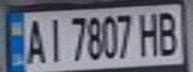0: (100, 11, 118, 61)
7: (66, 12, 87, 63), (115, 11, 136, 60)
8: (84, 12, 103, 62)
A: (21, 15, 48, 65)
B: (154, 7, 184, 56)
H: (136, 8, 163, 57)
I: (42, 13, 66, 64)
